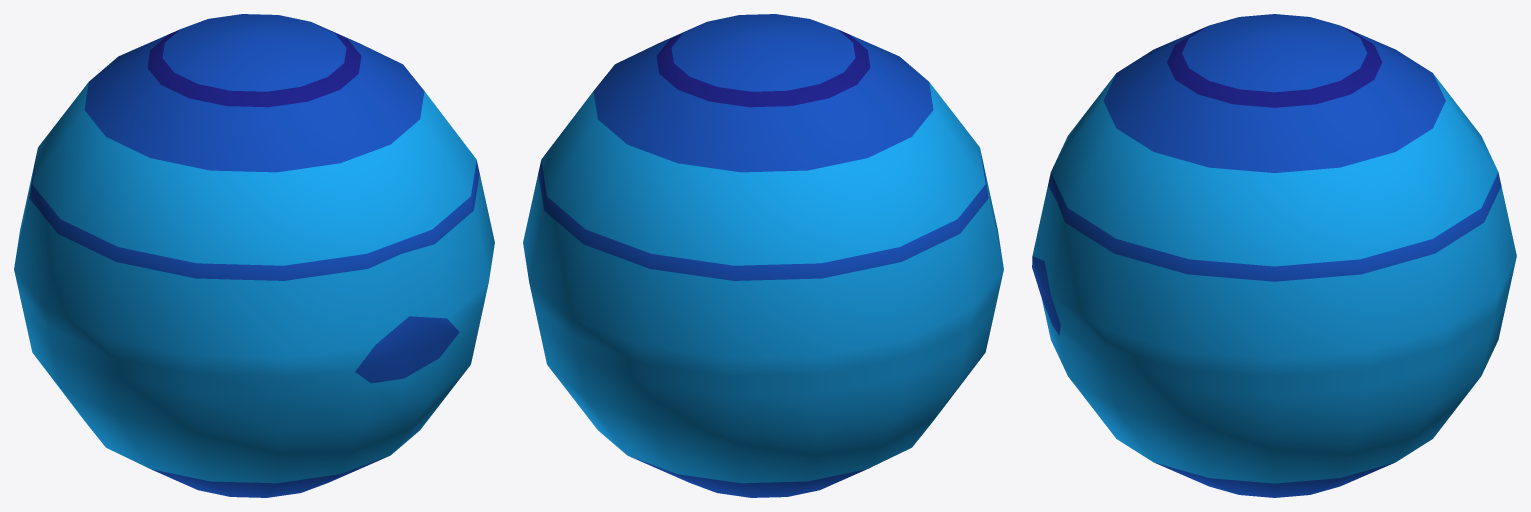
File: 08_Netuno.gltf
3 renders of one model, left to right at view 1: azimuth 30°, elevation 25°; view 2: azimuth 150°, elevation 25°; view 3: azimuth 270°, elevation 25°, orthographic.
Parts seen in each view (by area): view 1: 08_Netuno; view 2: 08_Netuno; view 3: 08_Netuno.
Part boxes in pixels (x1,y1,x2,y2): 08_Netuno: (14,14,494,497); 08_Netuno: (523,14,1003,497); 08_Netuno: (1032,14,1516,497).
Size of the model in its own units: 0.6444 by 0.6444 by 0.6448.
Materials: 1 (1 with a texture image).
